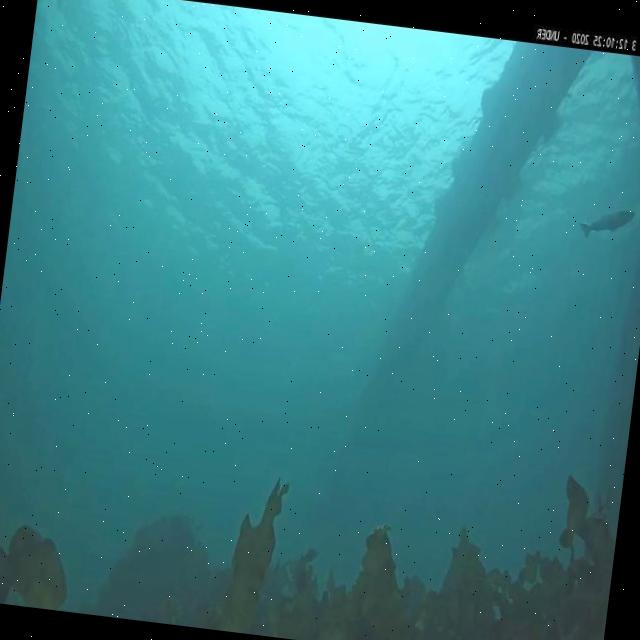fish: (578, 202, 636, 246)
